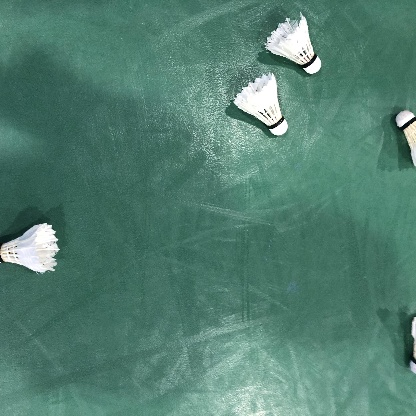ball_single: (264, 12, 321, 74), (233, 72, 288, 136), (0, 223, 60, 273), (395, 110, 416, 167)
